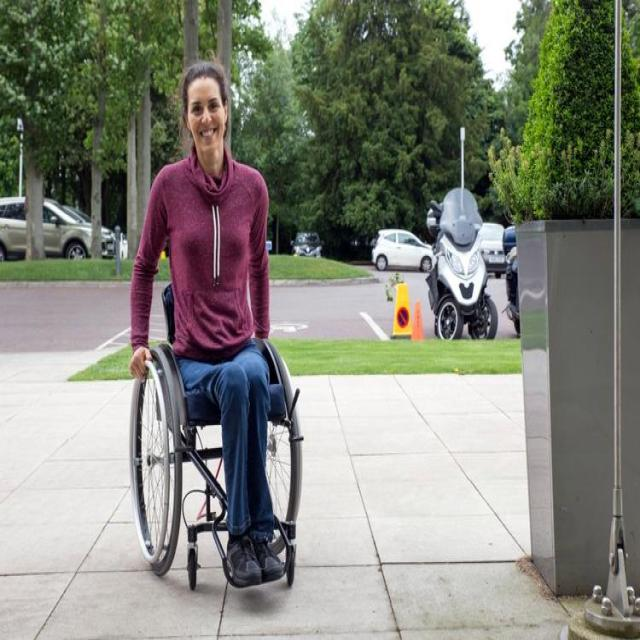wheelchairs: (118, 330, 309, 597)
